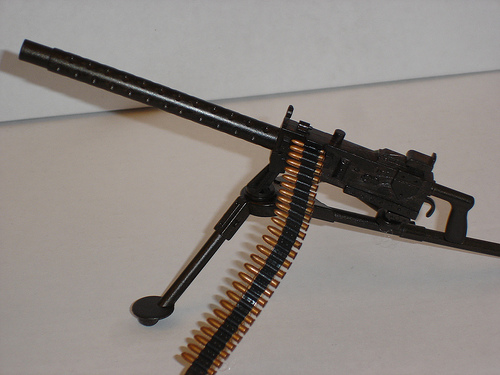rifle: (12, 32, 483, 354)
